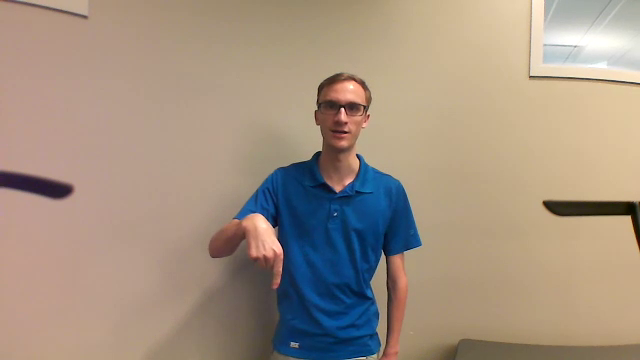down: (236, 206, 294, 294)
